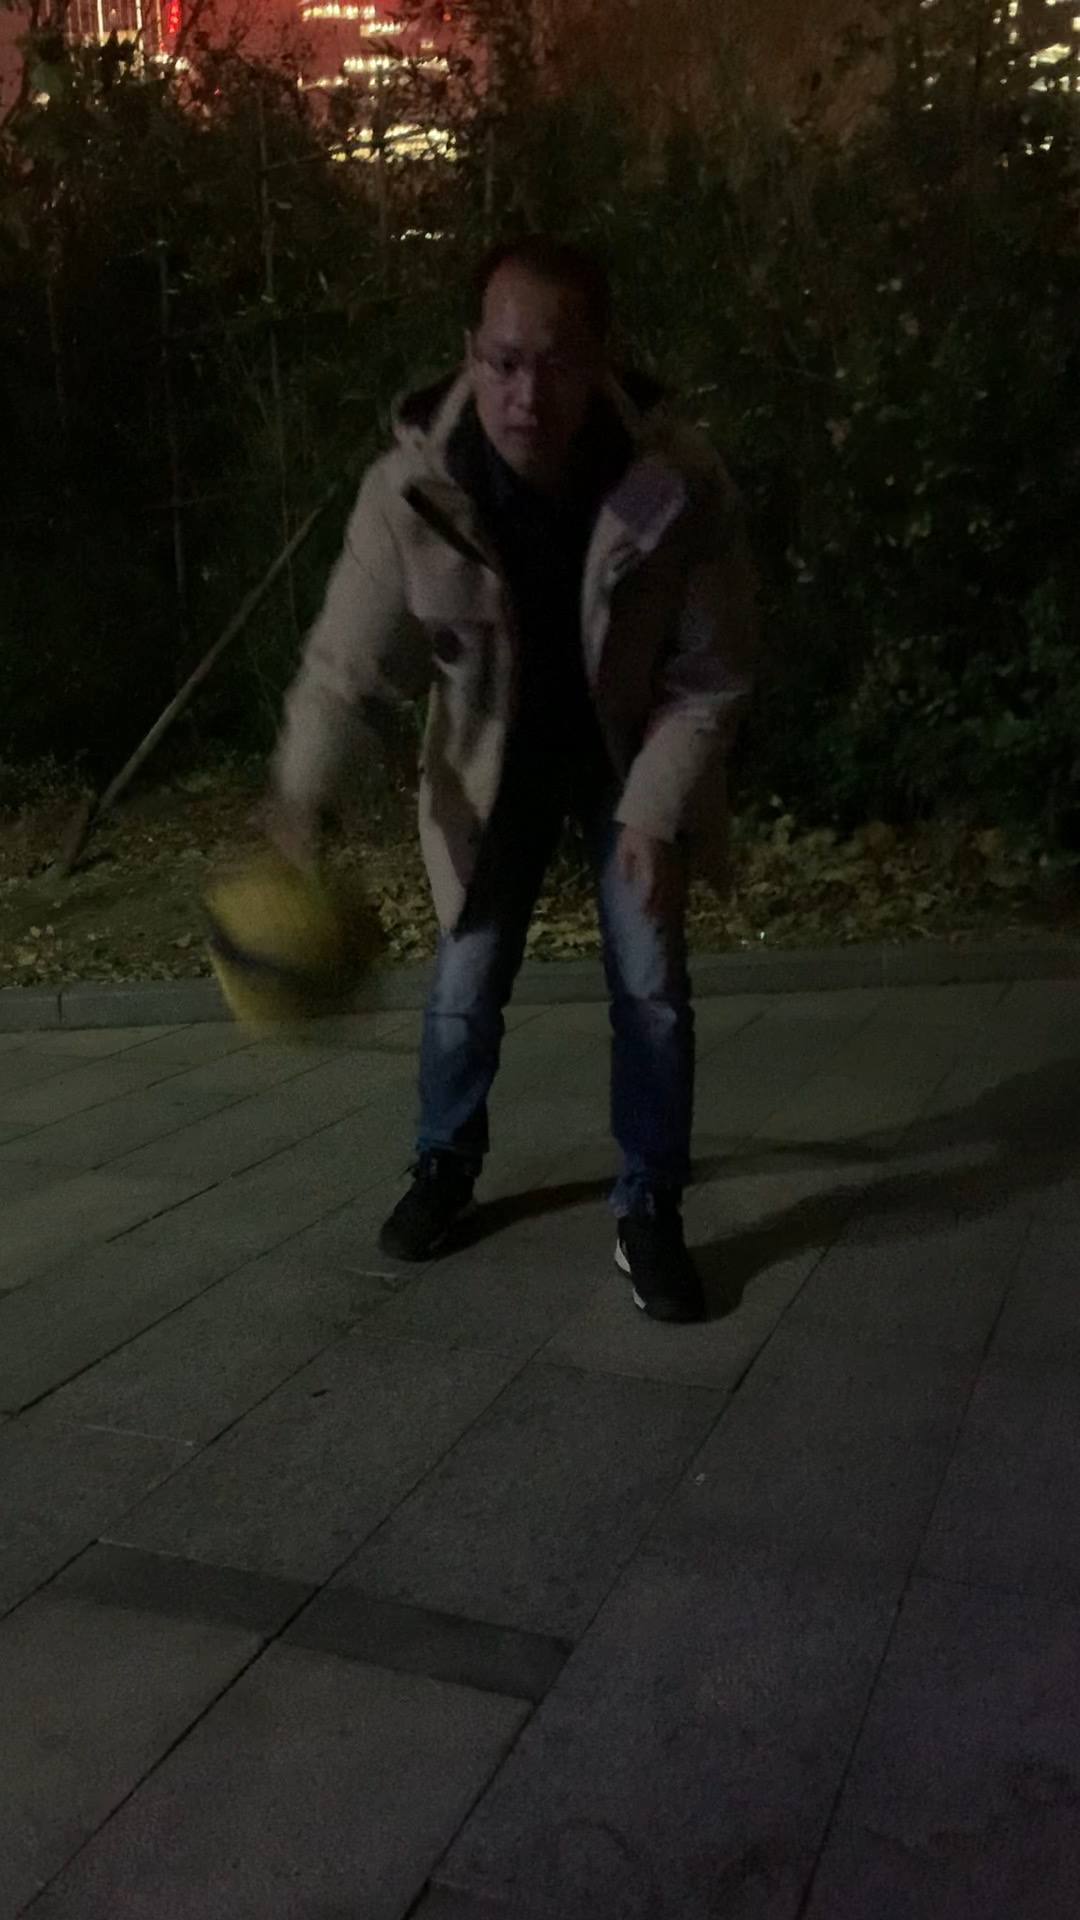ball: (200, 845, 405, 1048)
